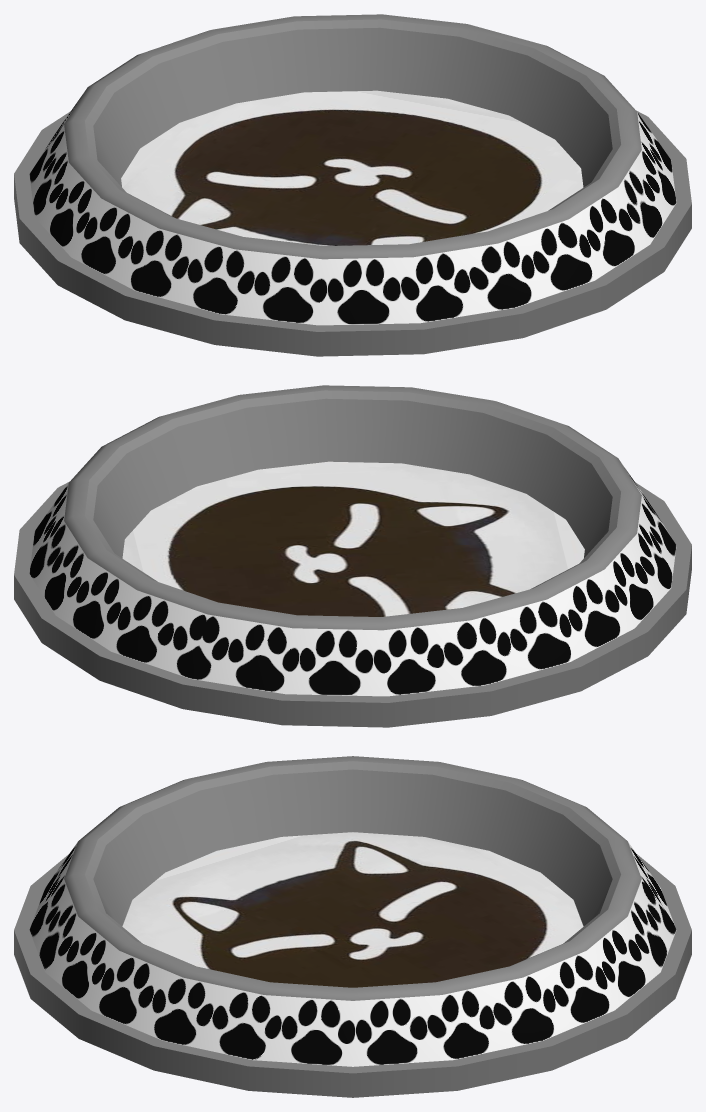
Rendered from CatBowl.fbx.
3 renders of one model, top to bottom at view 1: azimuth 30°, elevation 25°; view 2: azimuth 150°, elevation 25°; view 3: azimuth 270°, elevation 25°, orthographic.
Visible parts, largest first — view 1: pCylinder1; view 2: pCylinder1; view 3: pCylinder1.
Boxes of the visible parts, x1=… form: pCylinder1: x1=14, y1=14, x2=691, y2=356; pCylinder1: x1=14, y1=385, x2=691, y2=727; pCylinder1: x1=14, y1=756, x2=691, y2=1097.
Bounding box in the file's own units: 15.44 × 2.01 × 15.44.
3 materials, 2 textured.
